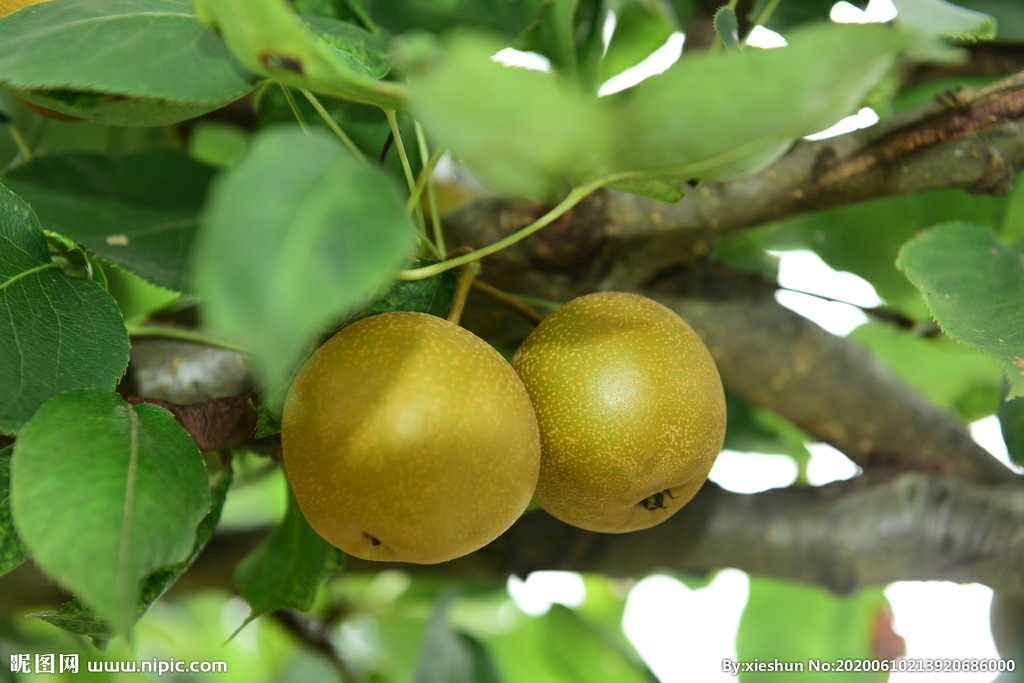pear: (279, 310, 539, 566), (503, 290, 728, 534)
